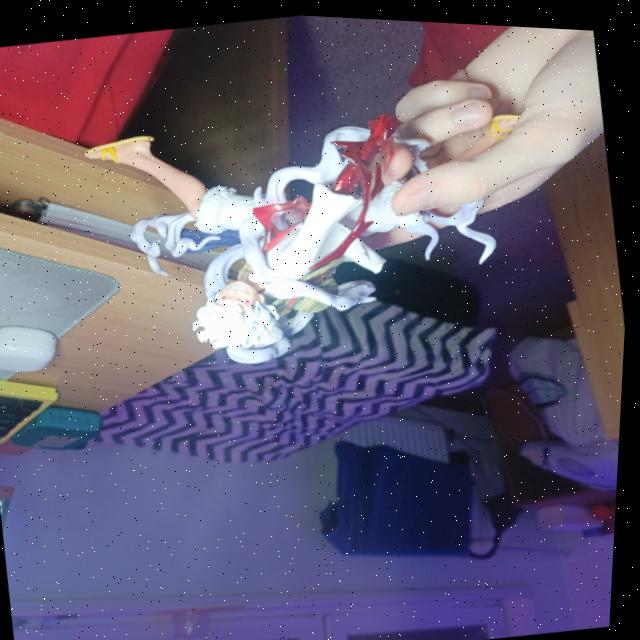luffy: (69, 64, 534, 396)
